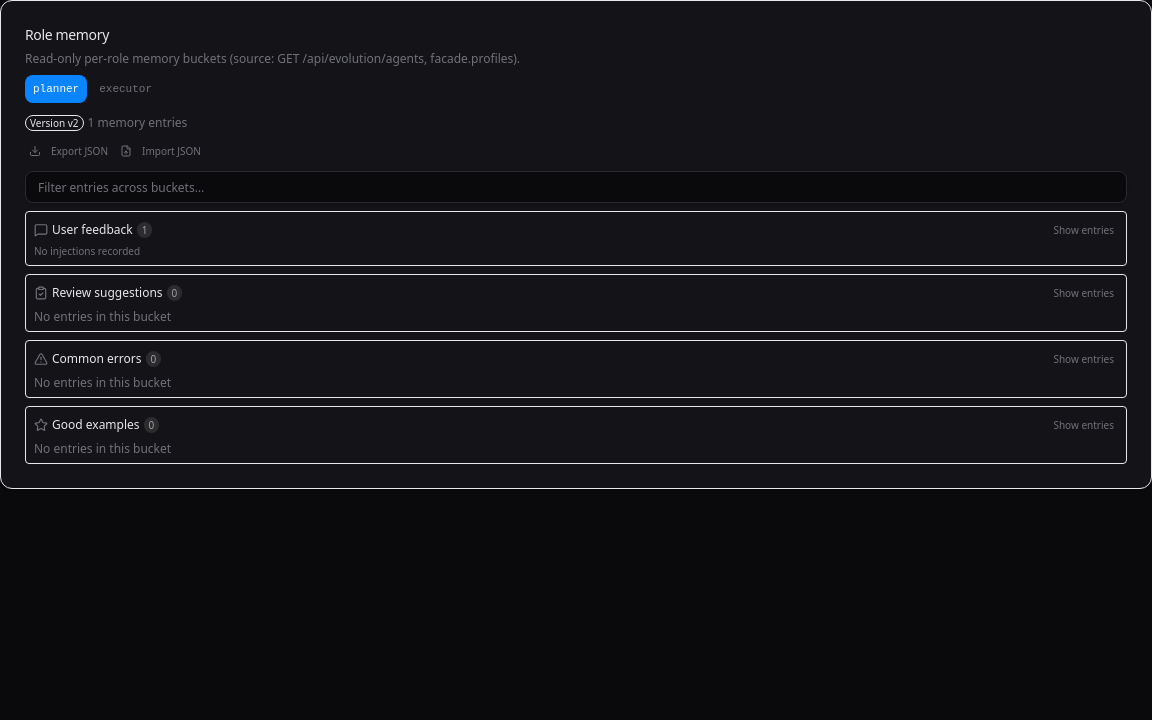
settings domains render smoke › MemoryDomain renders the role selector and bucket previews
This screenshot has width=1152, height=720.
Check: the element with test id "memory-role-selector" is shown, box [25,75,160,103]
Check: the element with test id "memory-role-planner" is shown, box [25,115,1127,464]
Click the button with test id "memory-bucket-userFeedback-toggle". click: (1084, 230)
box: [1049,218,1118,242]
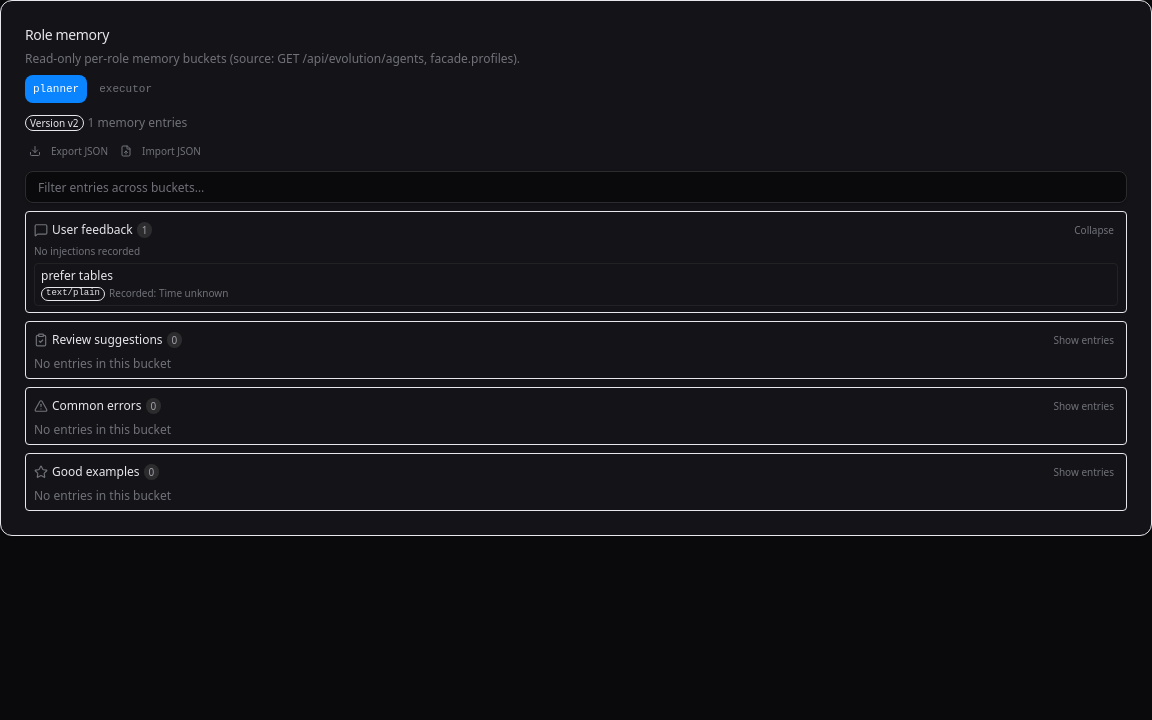
Check: the text "prefer tables" is shown, box [41,267,113,284]
Switch to executor (bucket expansion state persists across roles).
Click the button "executor". click: (126, 89)
box: [91,75,160,103]
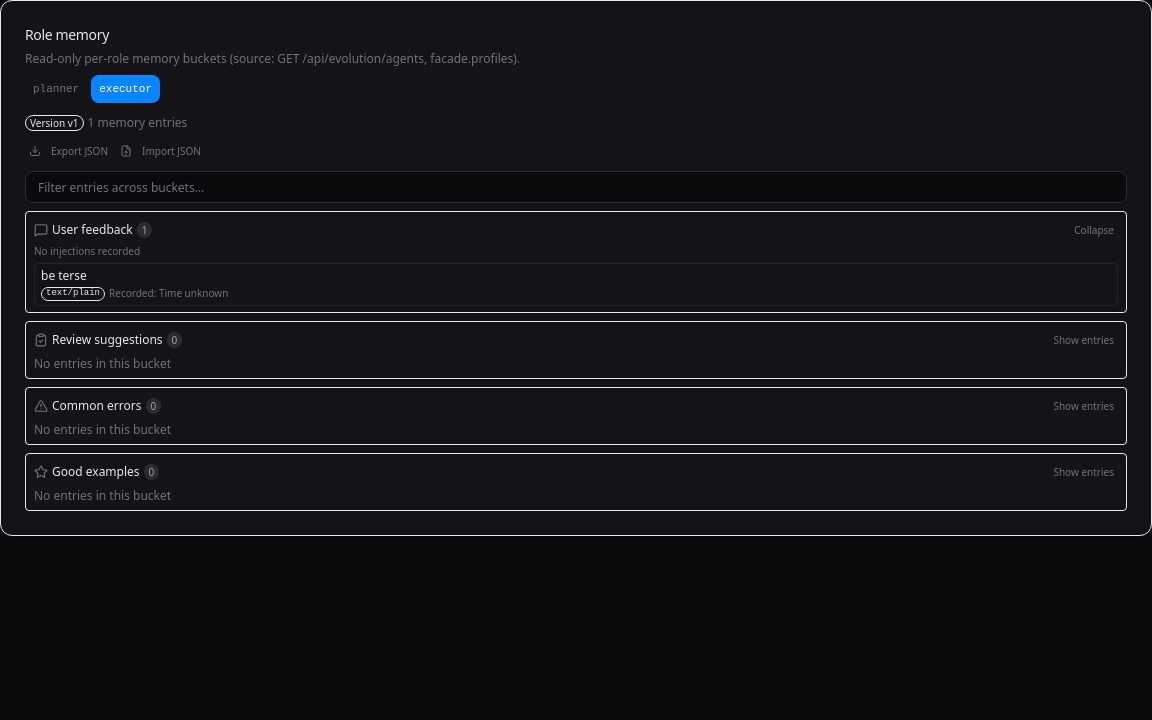
Check: the element with test id "memory-bucket-reviewSuggestions" shows "No entries in this bucket", box [34,355,171,372]
Check: the element with test id "memory-role-executor" is shown, box [25,115,1127,511]
Check: the text "be terse" is shown, box [41,267,87,284]
